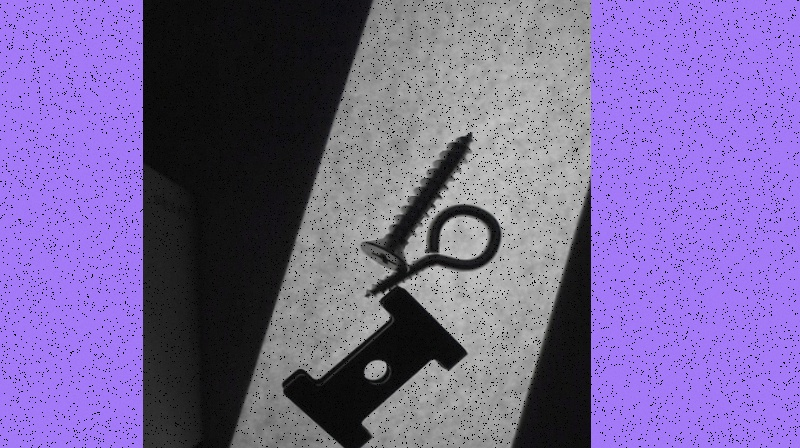O001: (361, 203, 502, 300)
O002: (281, 289, 465, 447)
S001: (360, 128, 476, 273)
